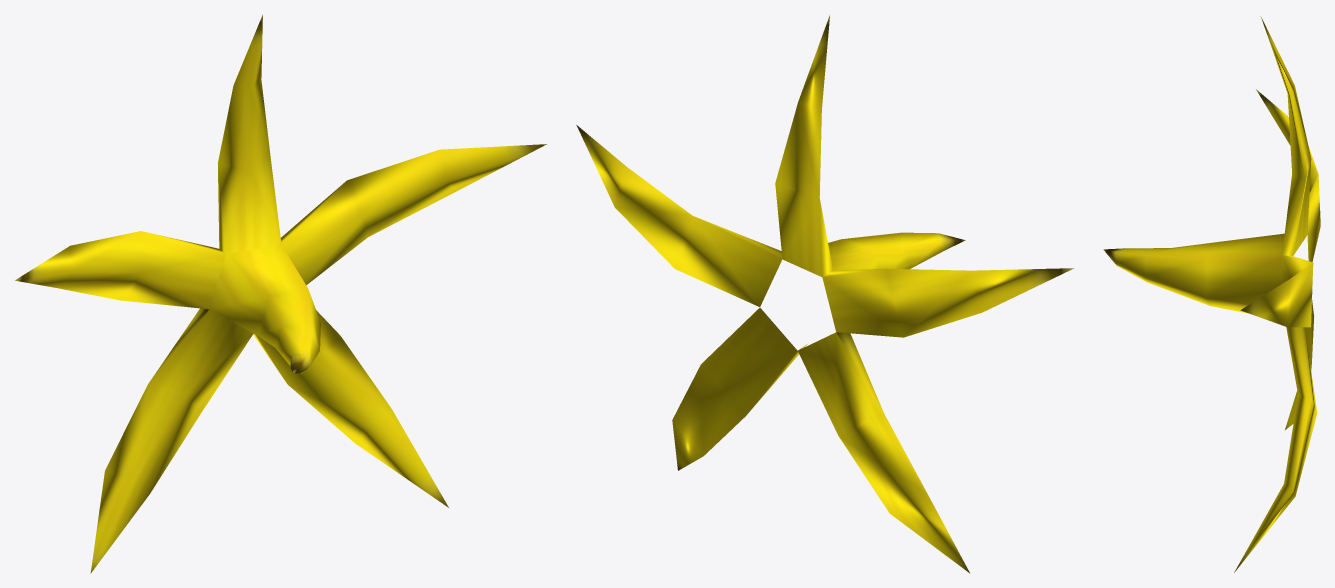
Rendered from banana.glb.
3 renders of one model, left to right at view 1: azimuth 30°, elevation 25°; view 2: azimuth 150°, elevation 25°; view 3: azimuth 270°, elevation 25°, orthographic. The views are drawn at different scales.
Parts seen in each view (by area): view 1: banana-peel; view 2: banana-peel; view 3: banana-peel.
Part boxes in pixels (left/top/right/bottom): banana-peel: left=15, top=14, right=546, bottom=573; banana-peel: left=576, top=15, right=1074, bottom=573; banana-peel: left=1103, top=16, right=1320, bottom=572.
Bounding box in the file's own units: 2.5 × 2.41 × 0.9761.
Materials: 1 (1 with a texture image).
